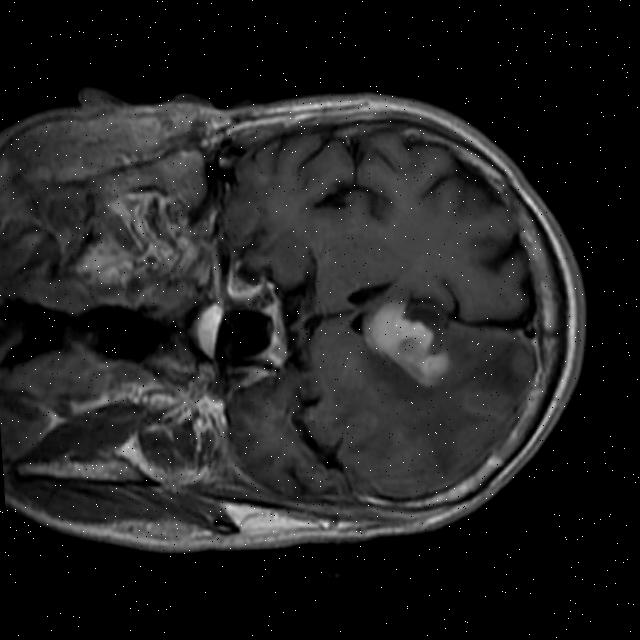Glioma: (358, 293, 453, 392)
Pituitary: (190, 300, 231, 363)
